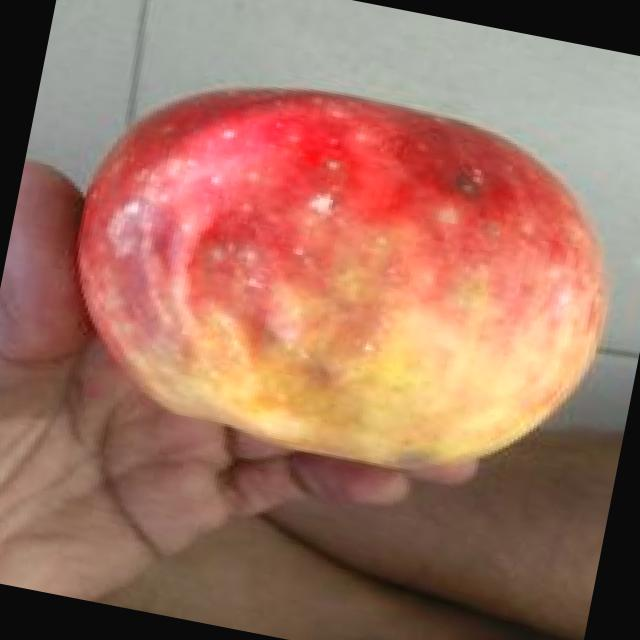Rotten_Apple: (44, 17, 640, 514)
